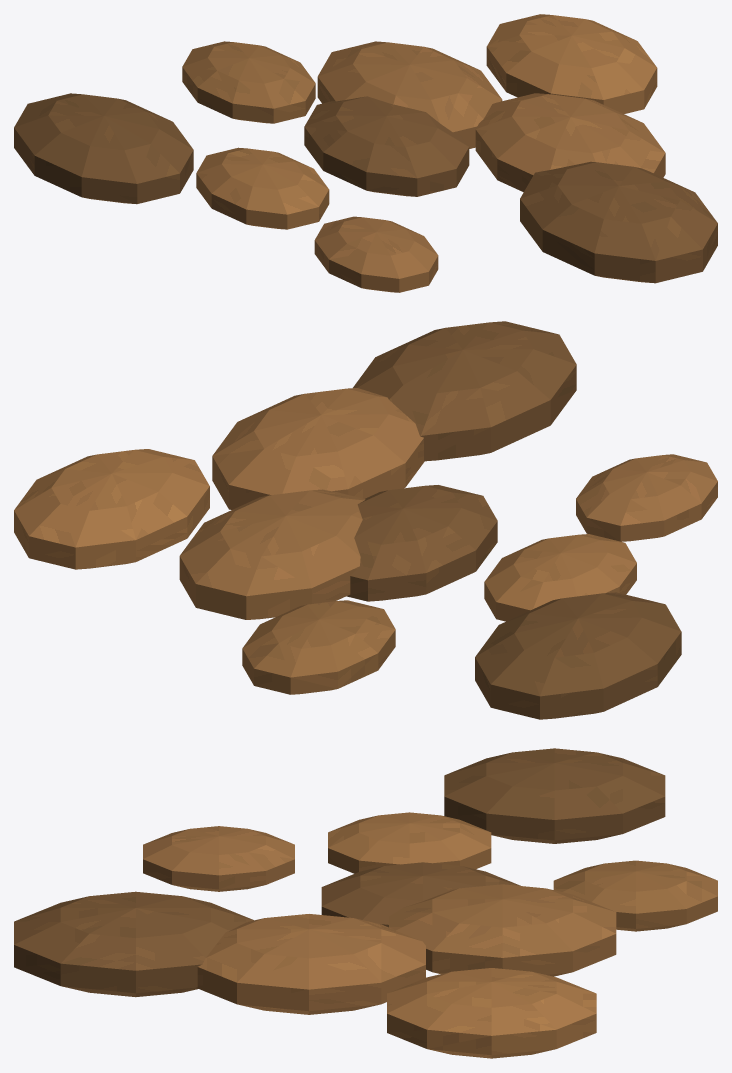
The model's file is seed_blackberries.glb.
3 views of the same model, one above another, from view 1: azimuth 30°, elevation 25°; view 2: azimuth 150°, elevation 25°; view 3: azimuth 270°, elevation 25° (orthographic). The views are drawn at different scales.
Parts seen in each view (by area): view 1: block_grain 8, block_grain 7, block_grain 0, block_grain 6, block_grain 3, block_grain 1, block_grain 4, block_grain 2, block_grain 5; view 2: block_grain 8, block_grain 7, block_grain 1, block_grain 3, block_grain 6, block_grain 0, block_grain 4, block_grain 5, block_grain 2; view 3: block_grain 8, block_grain 3, block_grain 7, block_grain 1, block_grain 6, block_grain 5, block_grain 4, block_grain 2, block_grain 0.
Boxes of the visible parts, x1=… form: block_grain 8: x1=520, y1=161, x2=717, y2=283; block_grain 7: x1=14, y1=93, x2=193, y2=204; block_grain 0: x1=304, y1=96, x2=469, y2=196; block_grain 6: x1=486, y1=14, x2=657, y2=113; block_grain 3: x1=475, y1=93, x2=665, y2=191; block_grain 1: x1=317, y1=41, x2=502, y2=148; block_grain 4: x1=182, y1=41, x2=315, y2=123; block_grain 2: x1=196, y1=147, x2=329, y2=229; block_grain 5: x1=314, y1=216, x2=438, y2=292; block_grain 8: x1=353, y1=321, x2=576, y2=461; block_grain 7: x1=475, y1=592, x2=681, y2=719; block_grain 1: x1=179, y1=489, x2=365, y2=619; block_grain 3: x1=212, y1=388, x2=424, y2=509; block_grain 6: x1=14, y1=449, x2=209, y2=569; block_grain 0: x1=346, y1=485, x2=497, y2=601; block_grain 4: x1=242, y1=600, x2=395, y2=694; block_grain 5: x1=576, y1=454, x2=717, y2=541; block_grain 2: x1=484, y1=534, x2=636, y2=621; block_grain 8: x1=14, y1=891, x2=253, y2=997; block_grain 3: x1=196, y1=914, x2=425, y2=1014; block_grain 7: x1=444, y1=748, x2=665, y2=843; block_grain 1: x1=389, y1=884, x2=616, y2=976; block_grain 6: x1=387, y1=968, x2=596, y2=1058; block_grain 5: x1=143, y1=826, x2=294, y2=891; block_grain 4: x1=553, y1=860, x2=717, y2=931; block_grain 2: x1=328, y1=812, x2=491, y2=873; block_grain 0: x1=321, y1=862, x2=520, y2=927.
Size of the model in its own units: 0.0209 by 0.00252 by 0.022.
1 material, 1 textured.
